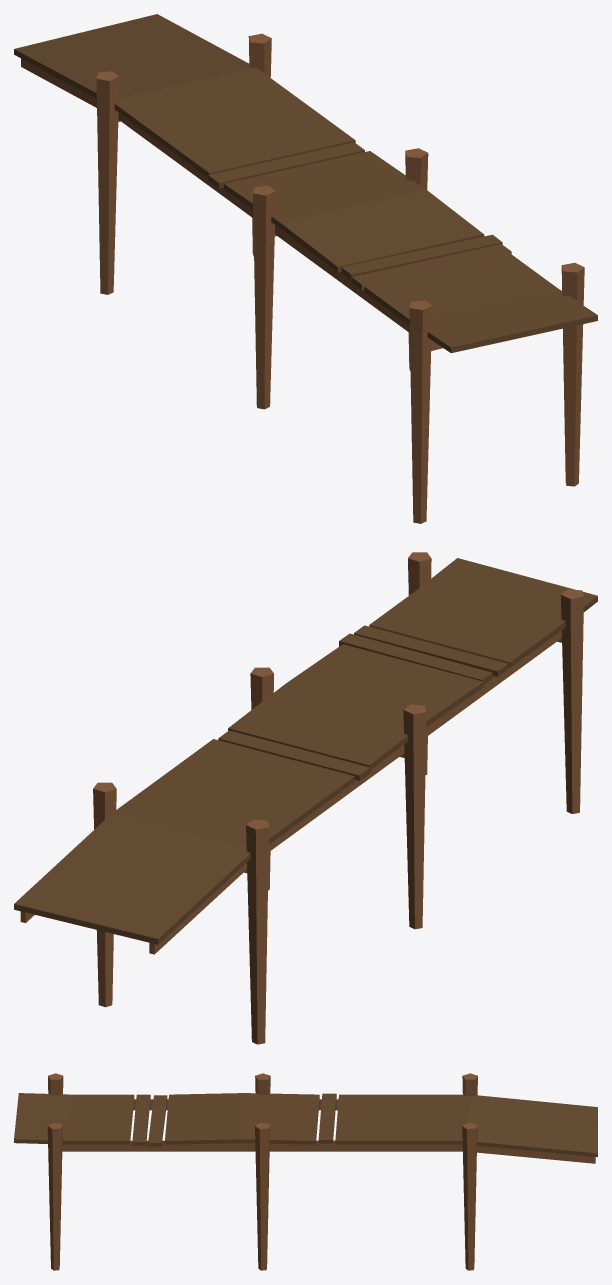
Rendered from dock-wood.glb.
3 renders of one model, top to bottom at view 1: azimuth 30°, elevation 25°; view 2: azimuth 150°, elevation 25°; view 3: azimuth 270°, elevation 25°, orthographic. The views are drawn at different scales.
Parts seen in each view (by area): view 1: dock_wood; view 2: dock_wood; view 3: dock_wood.
Part boxes in pixels (<box>): dock_wood: <box>14,14,597,523</box>; dock_wood: <box>14,552,597,1044</box>; dock_wood: <box>14,1073,597,1270</box>.
Bounding box in the file's own units: 1.79 × 2.14 × 7.91.
Materials: 1 (1 with a texture image).
